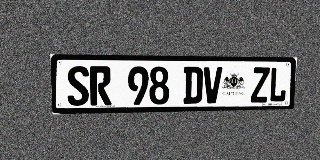8: (149, 66, 169, 104)
9: (128, 66, 149, 105)
D: (183, 67, 203, 104)
L: (268, 67, 288, 102)
R: (89, 66, 111, 106)
S: (66, 66, 89, 106)
V: (203, 67, 222, 104)
Z: (251, 67, 270, 103)
